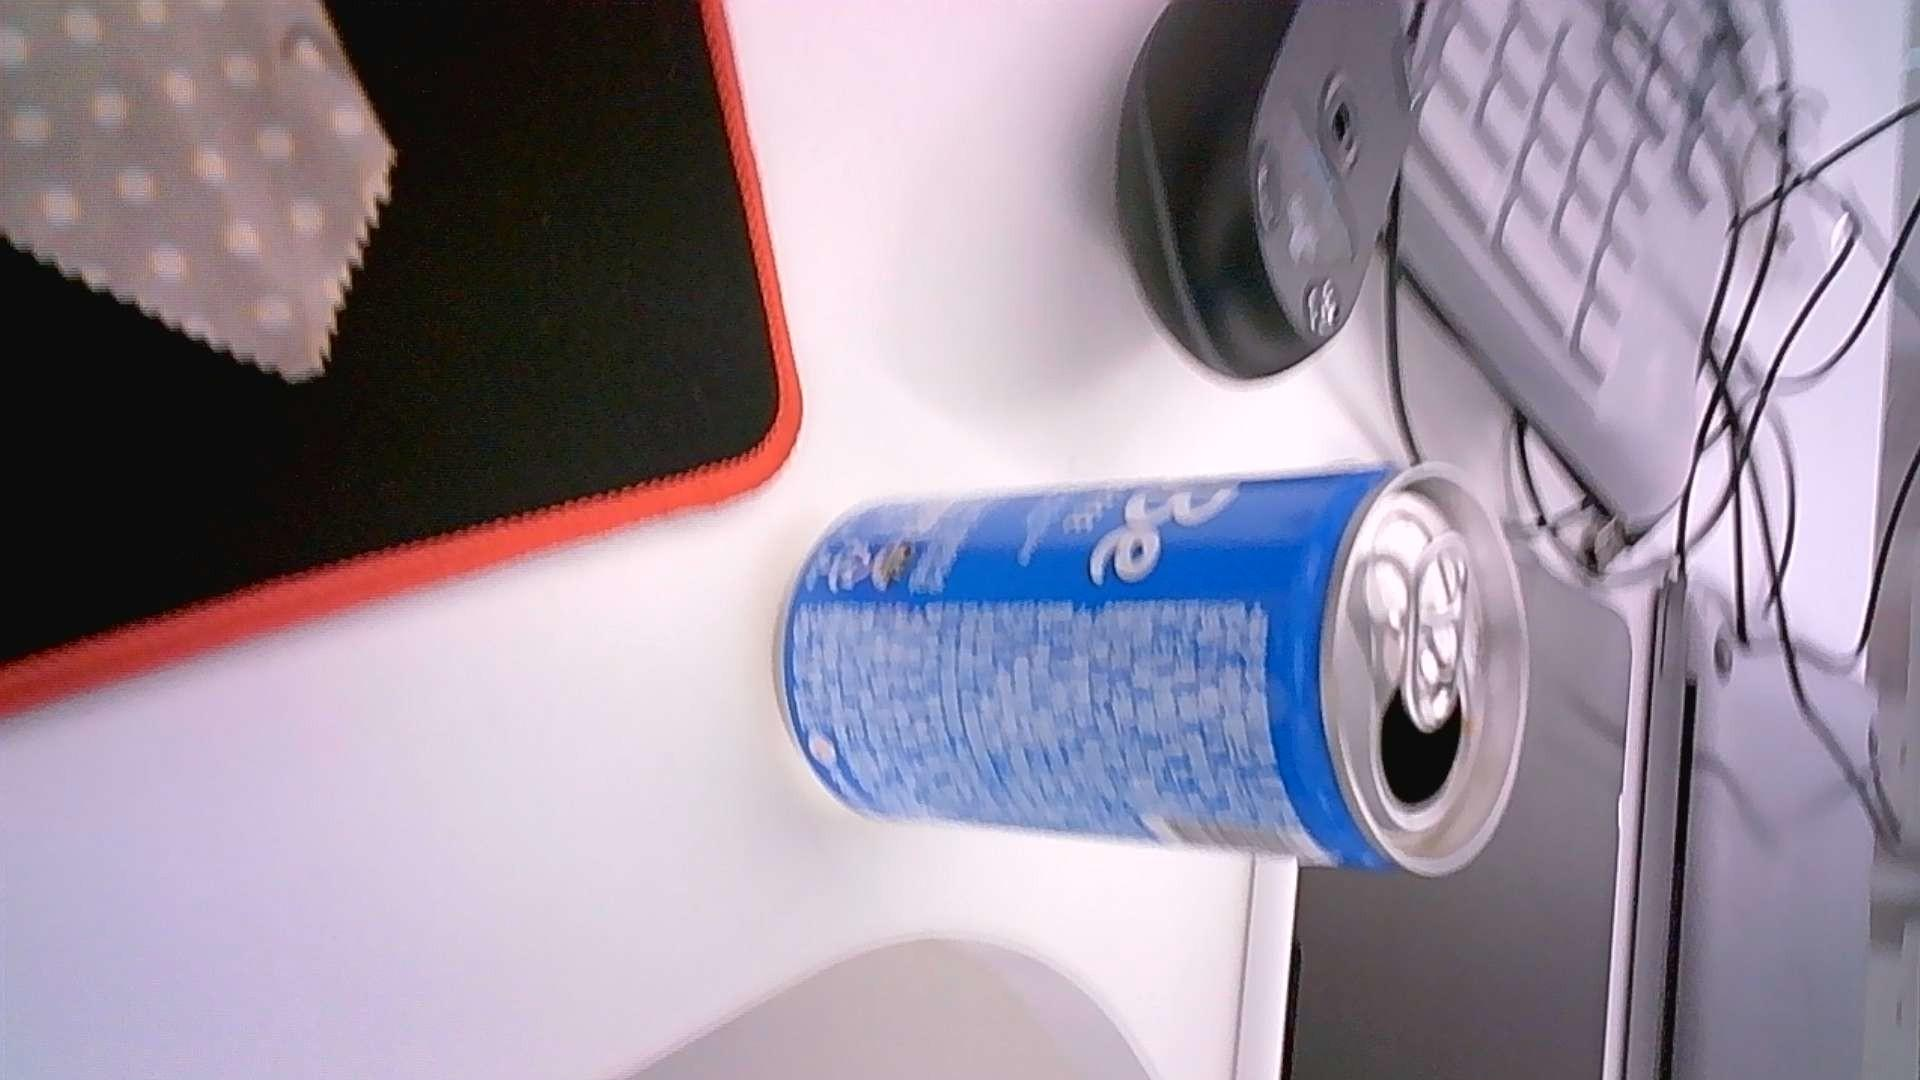letsbe: (774, 462, 1531, 874)
